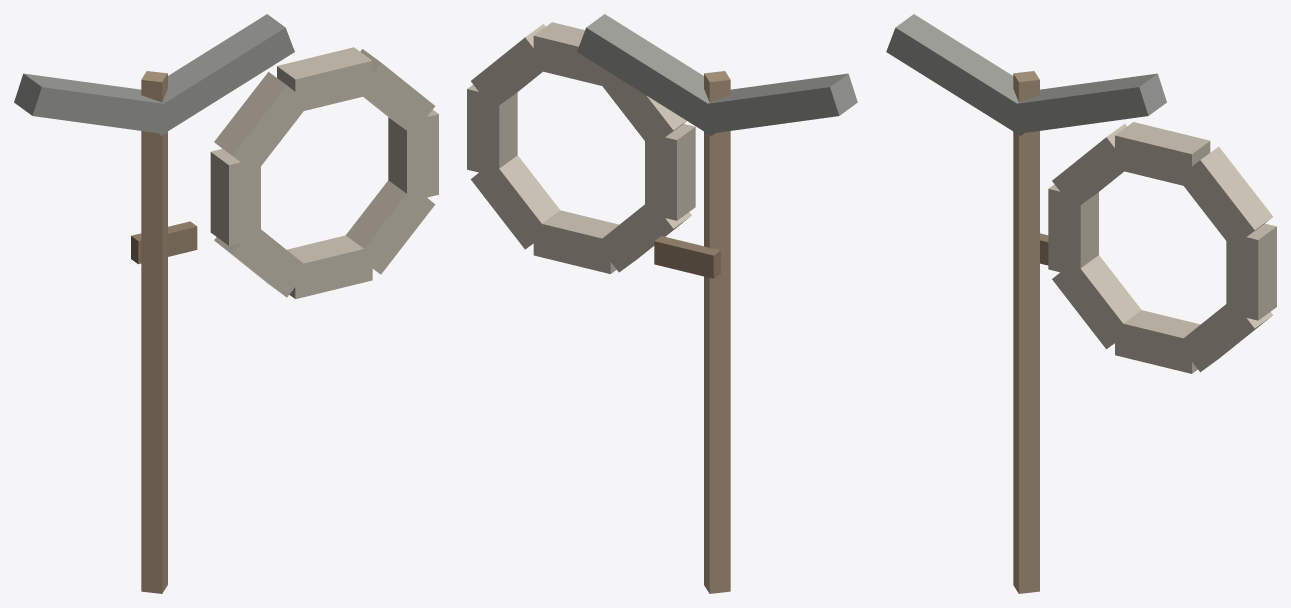
File: rope-pick.glb
3 renders of one model, left to right at view 1: azimuth 30°, elevation 25°; view 2: azimuth 150°, elevation 25°; view 3: azimuth 330°, elevation 25°, orthographic.
Parts seen in each view (by area): view 1: rope_pick; view 2: rope_pick; view 3: rope_pick.
Boxes of the visible parts, x1,y1,x2,y2 form: rope_pick: (14,14,438,593); rope_pick: (467,14,857,593); rope_pick: (886,14,1276,593).
Size of the model in its own units: 0.2627 by 0.3468 by 0.0467.
